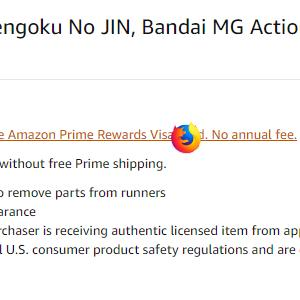firefox: (171, 122, 201, 153)
